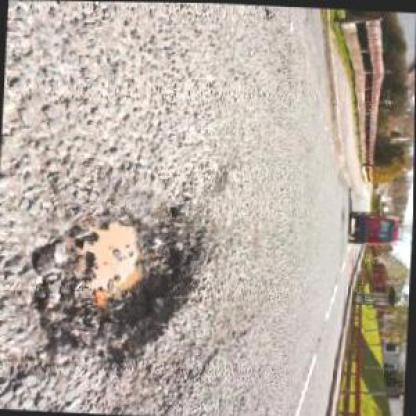pothole: (20, 187, 210, 369)
